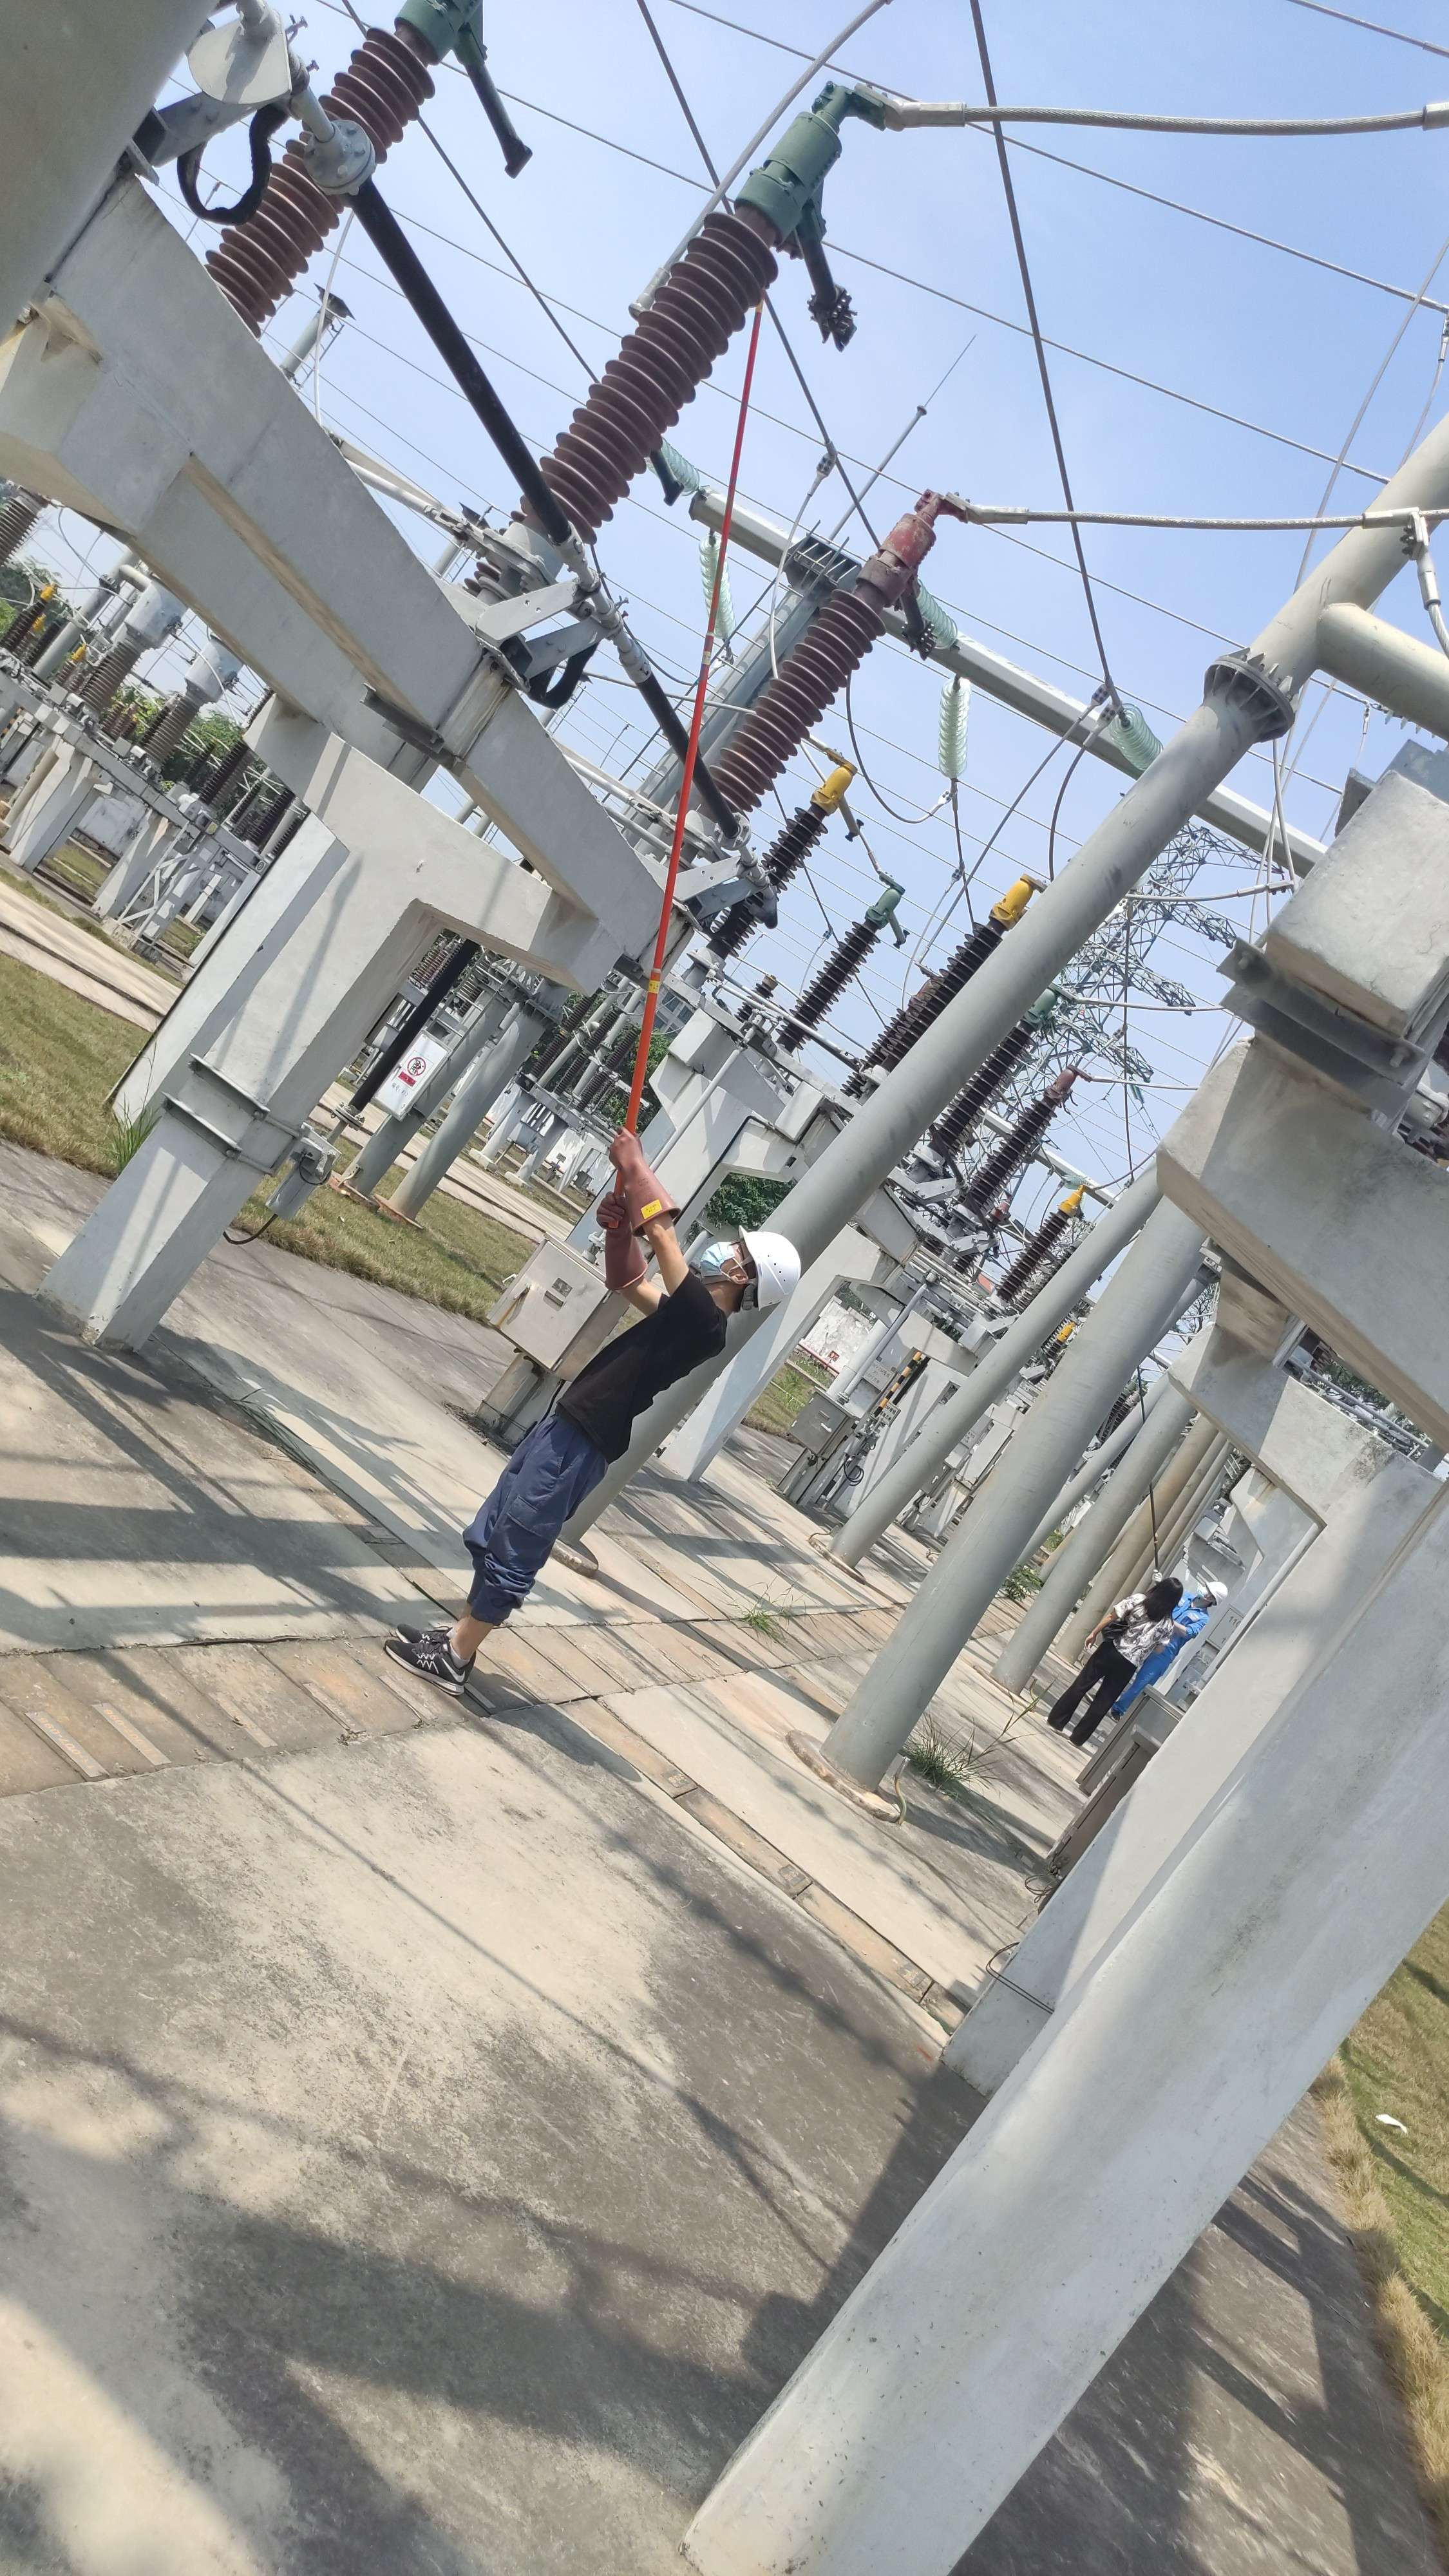downsuit: (451, 1428, 614, 1629)
upcloth: (566, 1293, 731, 1444)
wrongbottom: (455, 1560, 536, 1667)
